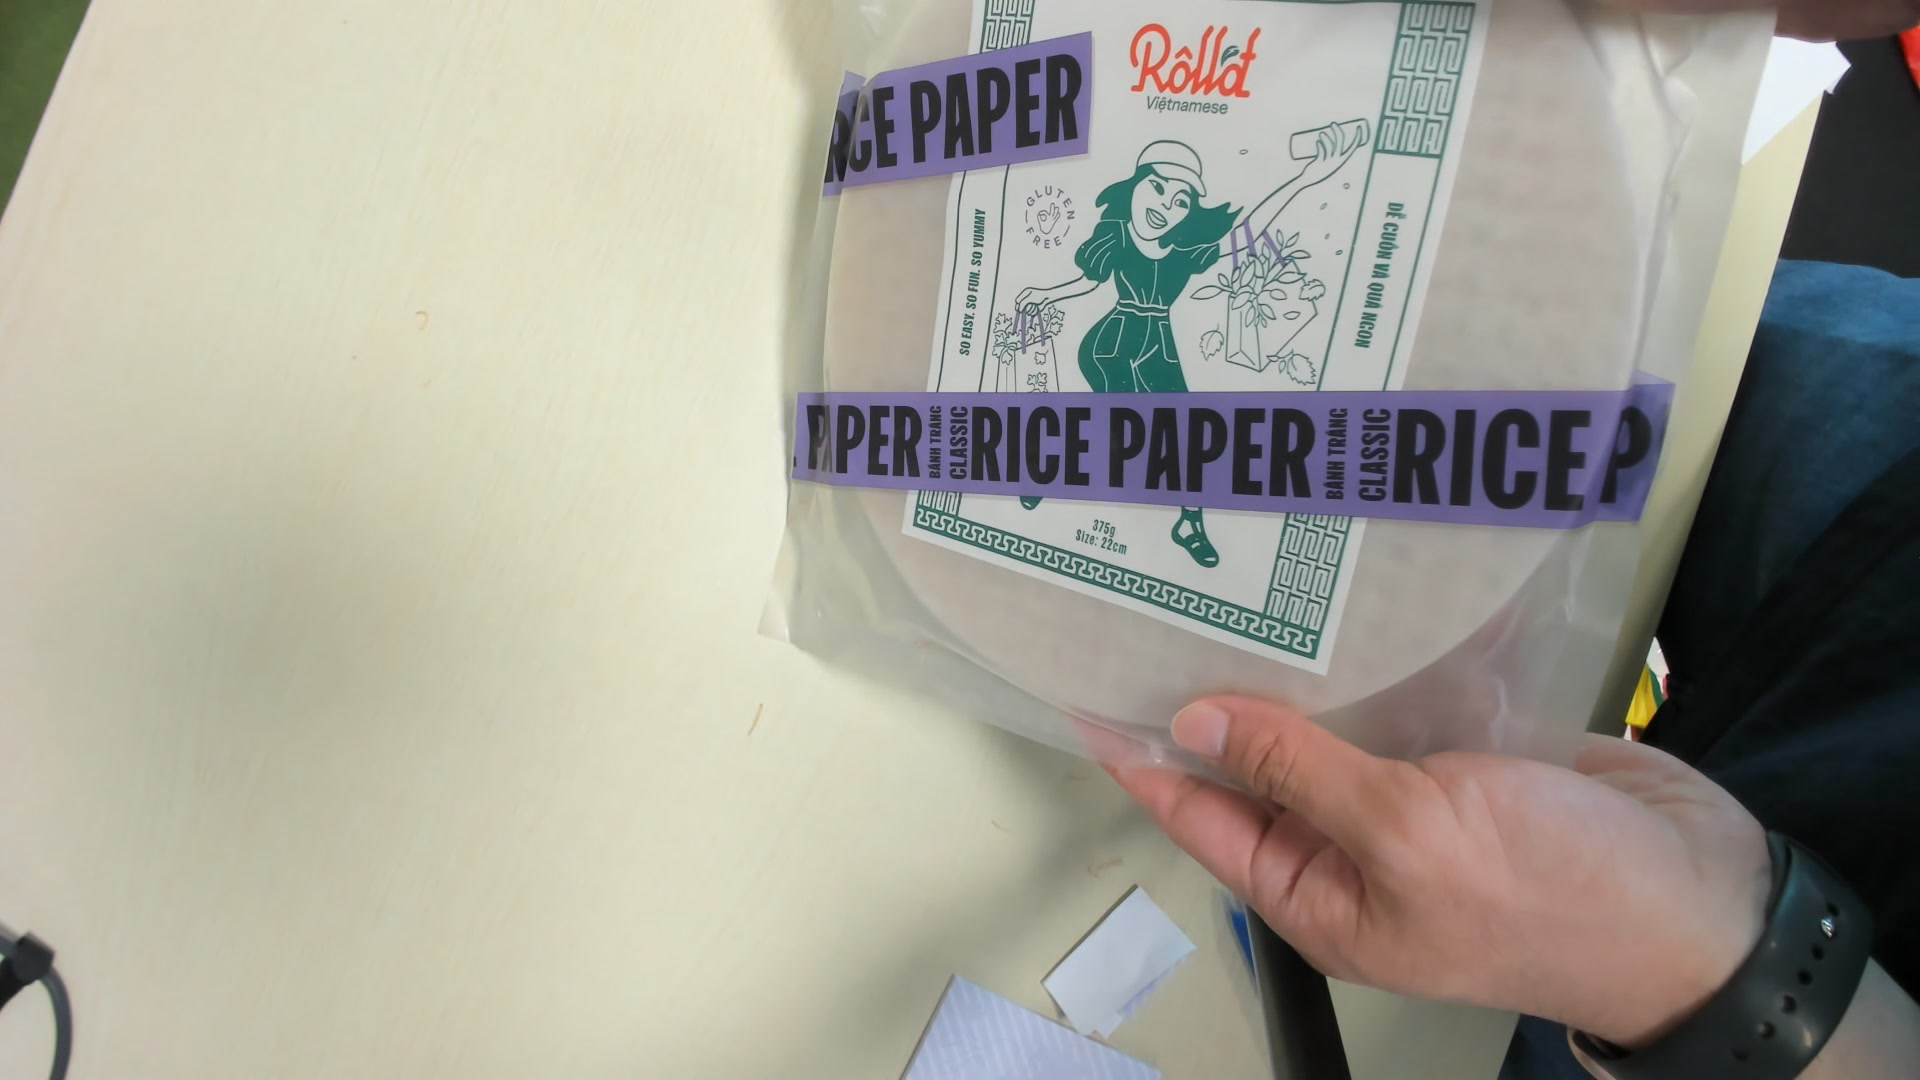InstantMeals_300_399g_NonHalal_NonHealthy: (781, 3, 1753, 812)
